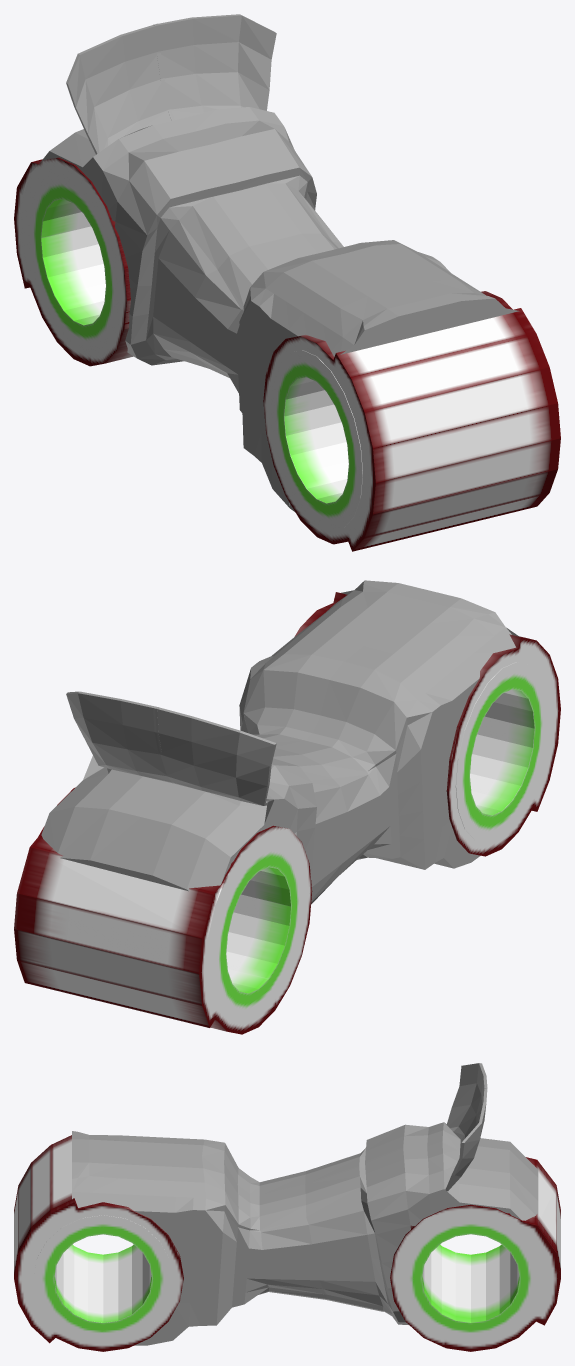
File: bike.fbx
The picture shows the model from 3 angles, top to bottom: view 1: azimuth 30°, elevation 25°; view 2: azimuth 150°, elevation 25°; view 3: azimuth 270°, elevation 25°; orthographic projection. The views are drawn at different scales.
Parts seen in each view (by area): view 1: polySurface4; view 2: polySurface4; view 3: polySurface4.
Boxes of the visible parts, x1,y1,x2,y2 form: polySurface4: [14, 14, 560, 551]; polySurface4: [14, 580, 560, 1034]; polySurface4: [14, 1063, 560, 1351].
Size of the model in its own units: 3.52 by 4.91 by 10.58.
